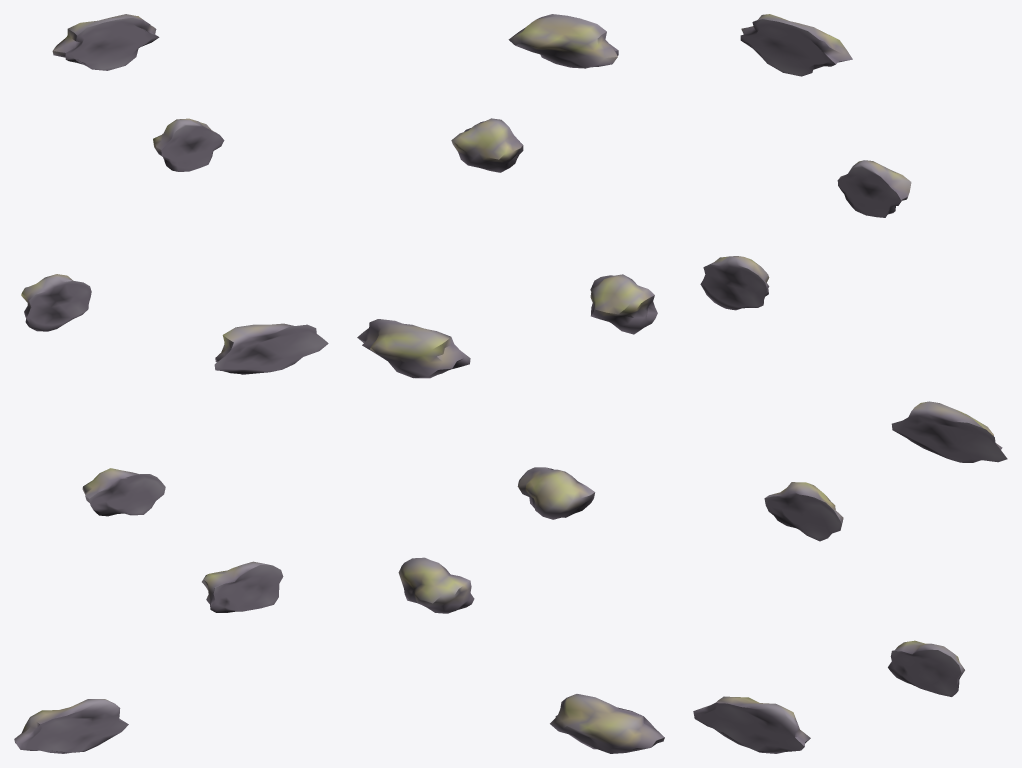
File: climb_handholds.glb
3 views of the same model, side by side, from view 1: azimuth 30°, elevation 25°; view 2: azimuth 150°, elevation 25°; view 3: azimuth 330°, elevation 25° (orthographic). The views are drawn at different scales.
Parts seen in each view (by area): view 1: climb_handholds; view 2: climb_handholds; view 3: climb_handholds.
Boxes of the visible parts, <box> form: climb_handholds: <box>14,14,328,753</box>; climb_handholds: <box>357,14,664,753</box>; climb_handholds: <box>693,14,1007,753</box>.
Size of what is drawn, in the model's own units: 1.18 by 2.63 by 0.138.
